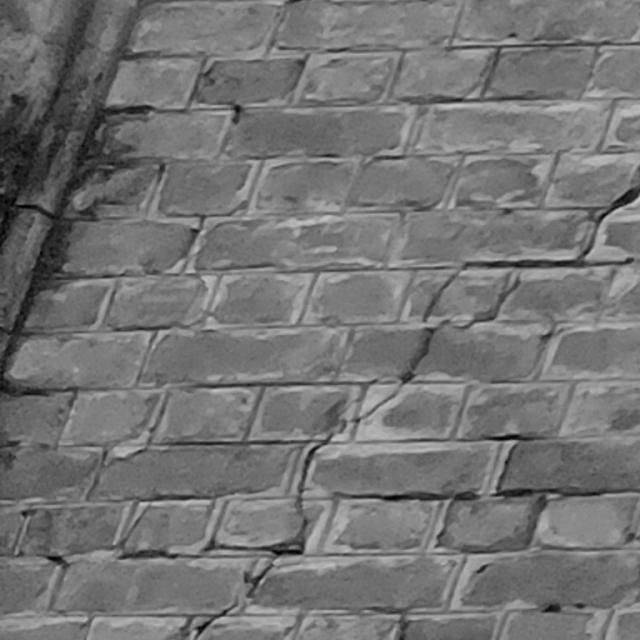crack: (194, 185, 639, 640)
